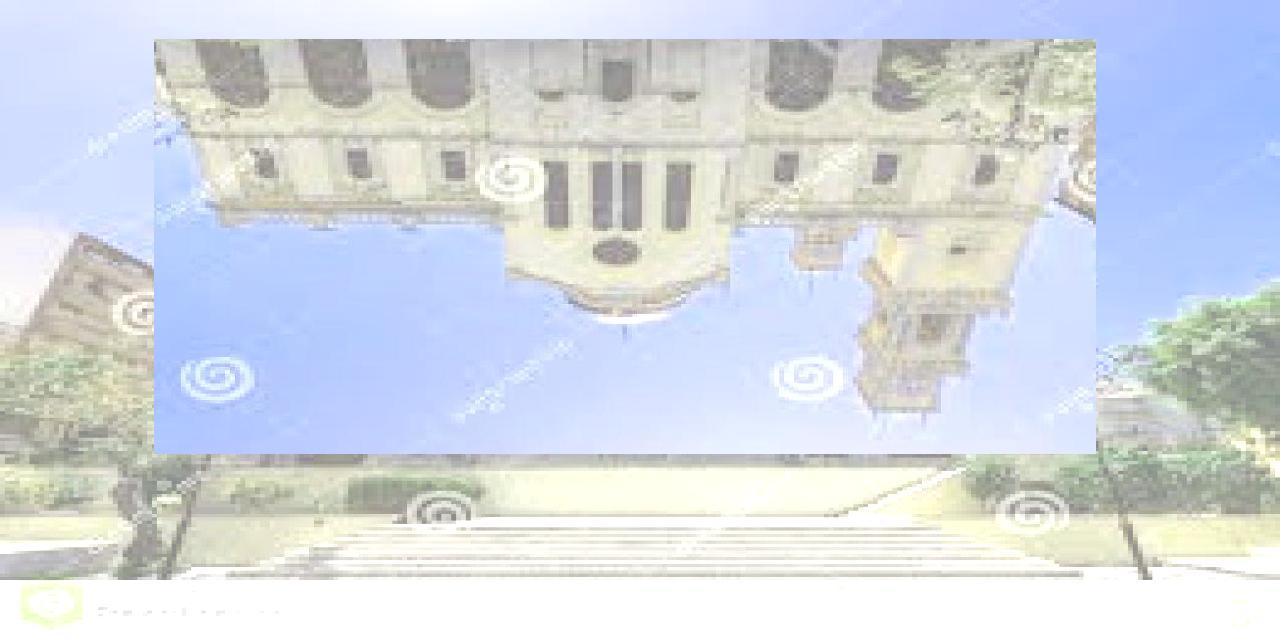Agios Minas: (155, 40, 1097, 455)
